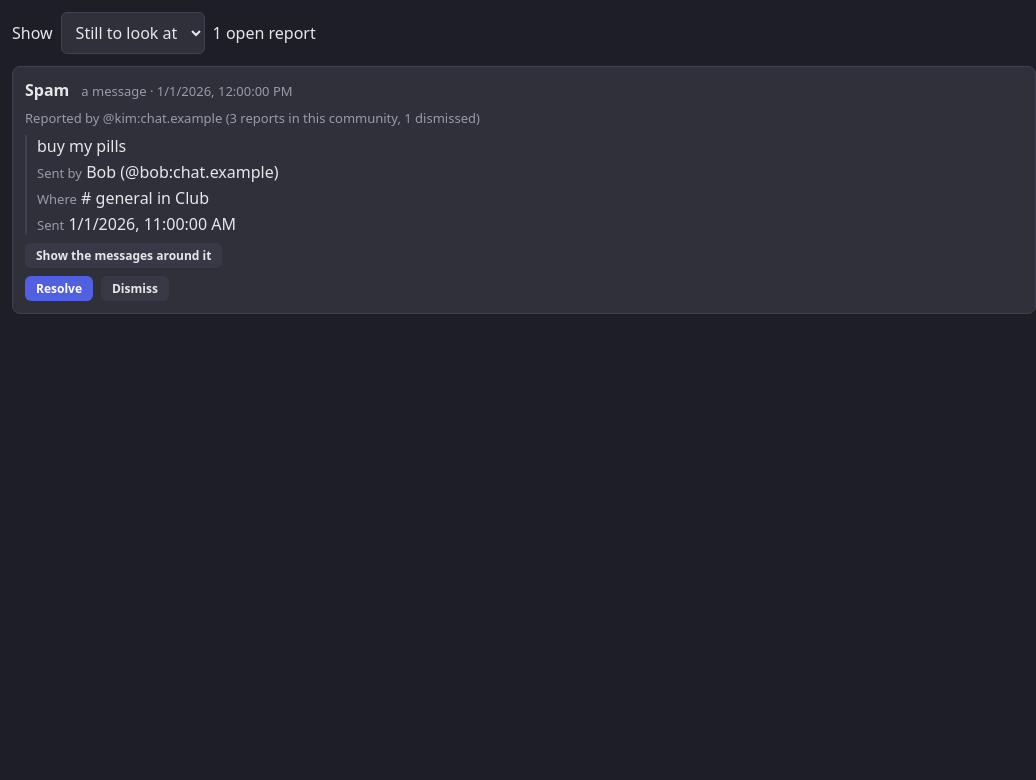
Test: closing and reopening › says that resolving only records what was done
Click the button "Resolve" at (59, 288), box x1=25 y1=276 x2=93 y2=301
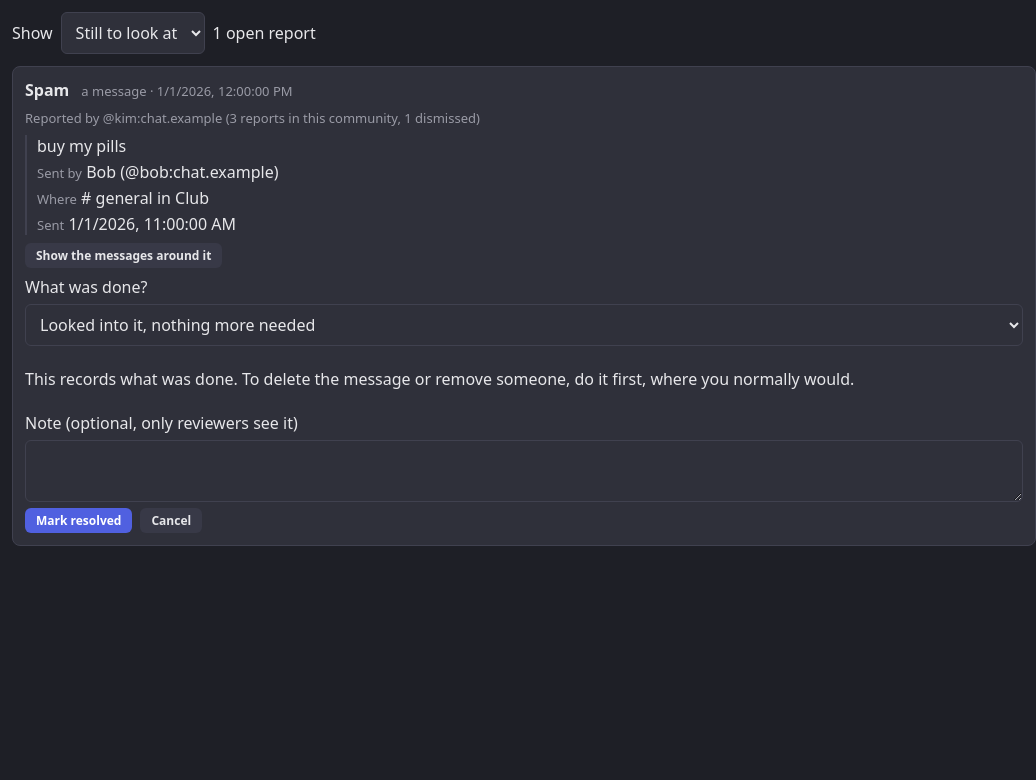
Expected: the text "records what was done. To delete the message or remove someone, do it first" is shown, x1=25 y1=368 x2=854 y2=390
